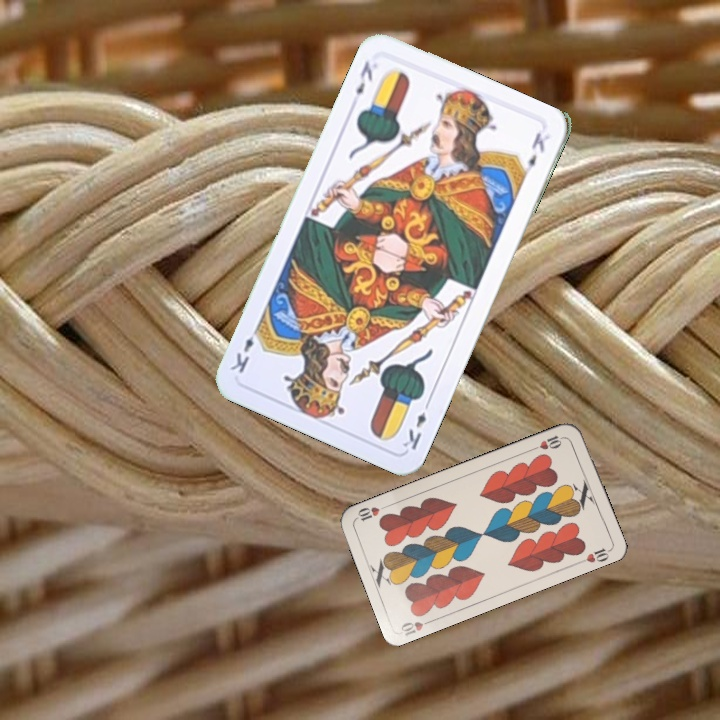EK: (398, 395, 433, 453), (351, 56, 376, 97)
H10: (397, 615, 437, 638), (528, 431, 568, 453)
